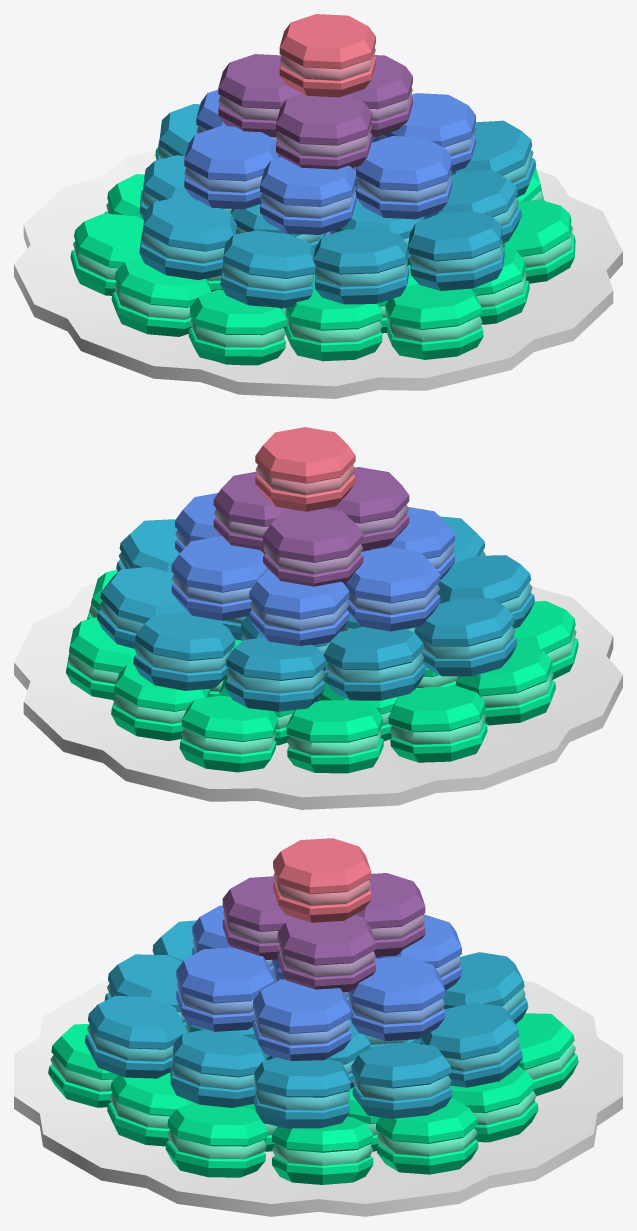
The model's file is PW_macaron_tower.fbx.
The picture shows the model from 3 angles, top to bottom: view 1: azimuth 30°, elevation 25°; view 2: azimuth 150°, elevation 25°; view 3: azimuth 270°, elevation 25°; orthographic projection.
Parts seen in each view (by area): view 1: macaron_tower; view 2: macaron_tower; view 3: macaron_tower.
Boxes of the visible parts, x1=… form: macaron_tower: x1=14, y1=14, x2=622, y2=398; macaron_tower: x1=14, y1=427, x2=622, y2=809; macaron_tower: x1=14, y1=838, x2=622, y2=1216.
Size of the model in its own units: 52.65 by 26.41 by 52.58.
Materials: 1 (1 with a texture image).
